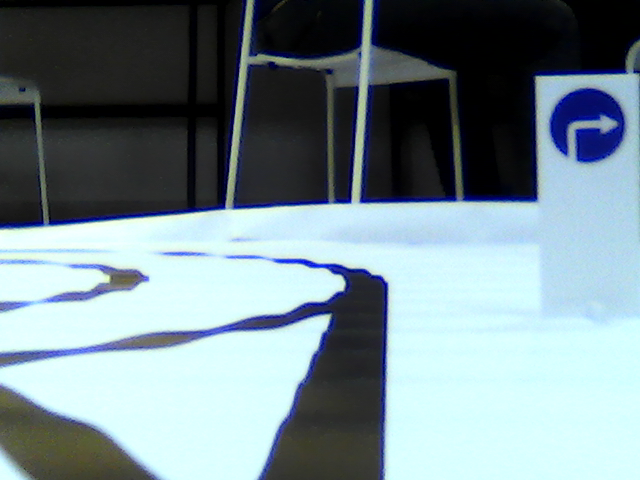Right: (549, 86, 627, 161)
